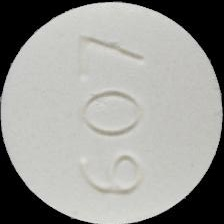47781-607: (0, 0, 224, 224)
